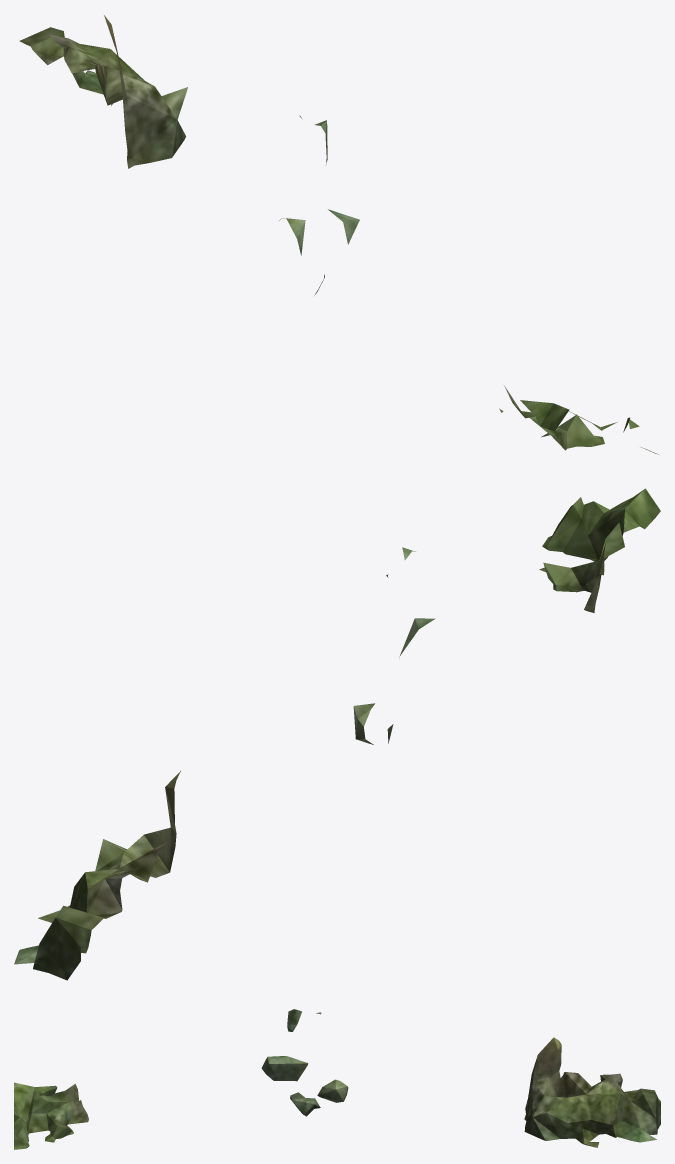
3 renders of one model, top to bottom at view 1: azimuth 30°, elevation 25°; view 2: azimuth 150°, elevation 25°; view 3: azimuth 270°, elevation 25°, orthographic. The views are drawn at different scales.
Size of the model in its own units: 1.33 by 2.25 by 11.8.
1 material, 1 textured.
